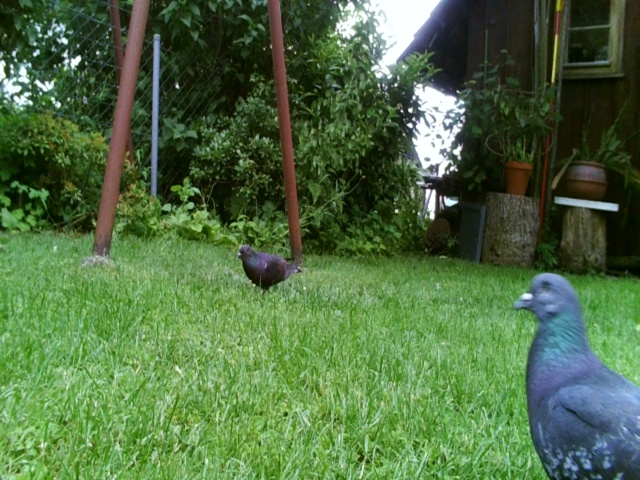Pigeon: (504, 263, 637, 480), (232, 240, 317, 303)
